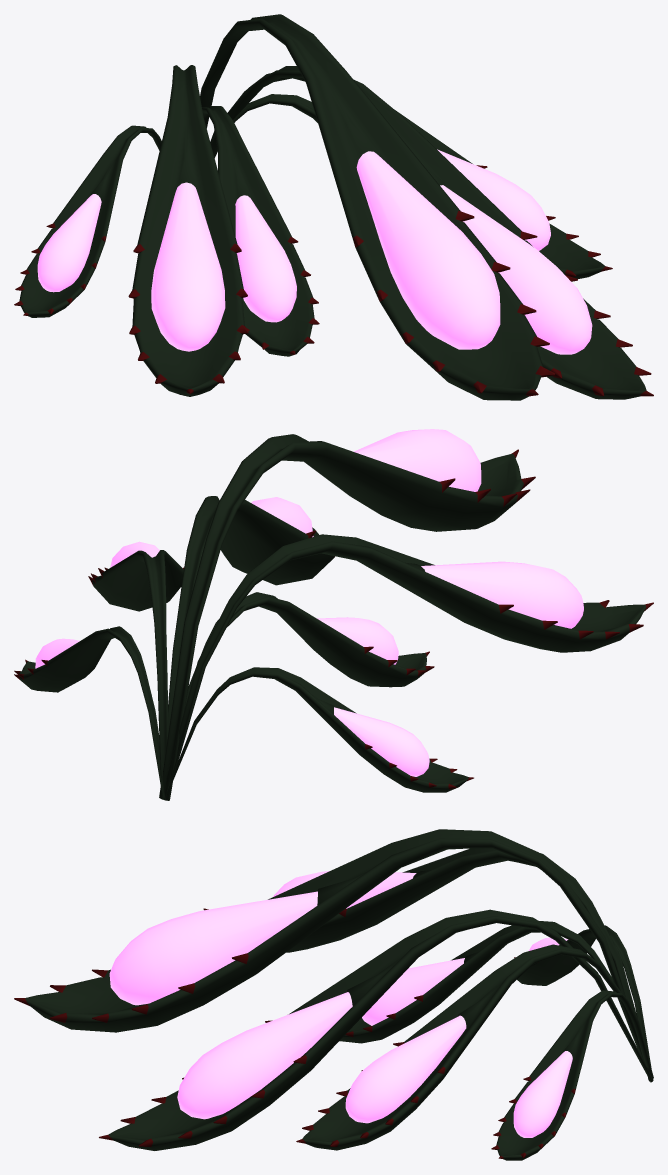
File: Plant_06_merged_LP_UV.fbx
3 renders of one model, top to bottom at view 1: azimuth 30°, elevation 25°; view 2: azimuth 150°, elevation 25°; view 3: azimuth 270°, elevation 25°, orthographic. The views are drawn at different scales.
Parts seen in each view (by area): view 1: Plant_06_merged_LP_UV; view 2: Plant_06_merged_LP_UV; view 3: Plant_06_merged_LP_UV.
Boxes of the visible parts, x1,y1,x2,y2 form: Plant_06_merged_LP_UV: (14,14,653,400); Plant_06_merged_LP_UV: (14,429,653,800); Plant_06_merged_LP_UV: (14,829,653,1160).
Size of the model in its own units: 305 by 383 by 164.
